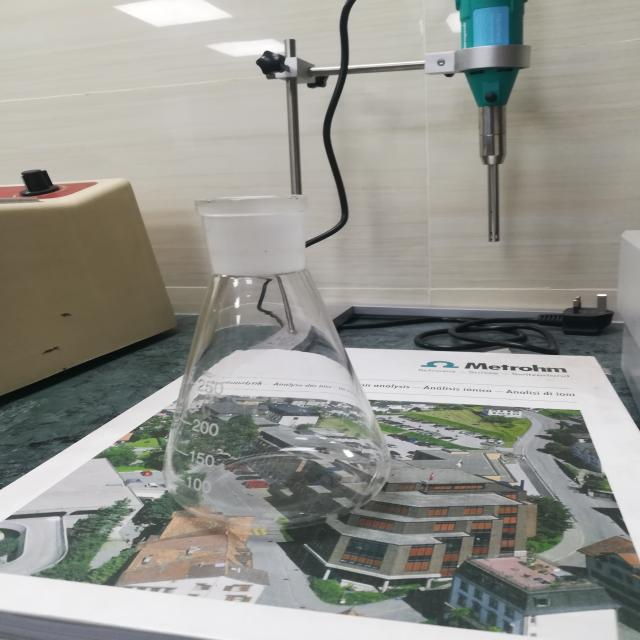Conical_Flask: (88, 149, 450, 578)
